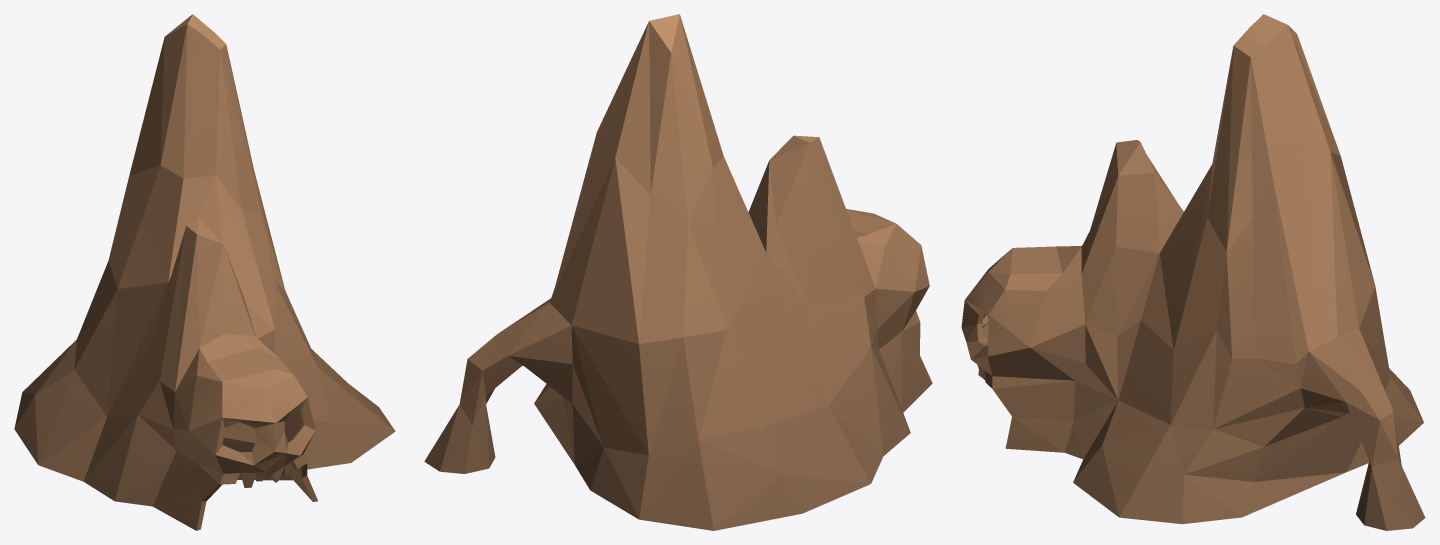
The model's file is skull mountain.fbx.
3 views of the same model, side by side, from view 1: azimuth 30°, elevation 25°; view 2: azimuth 150°, elevation 25°; view 3: azimuth 270°, elevation 25° (orthographic). The views are drawn at different scales.
Parts seen in each view (by area): view 1: skull mountain; view 2: skull mountain; view 3: skull mountain.
Part boxes in pixels (left/top/right/bottom): skull mountain: left=14, top=14, right=395, bottom=530; skull mountain: left=424, top=14, right=932, bottom=530; skull mountain: left=961, top=14, right=1425, bottom=530.
Bounding box in the file's own units: 1785 × 2047 × 2010.
